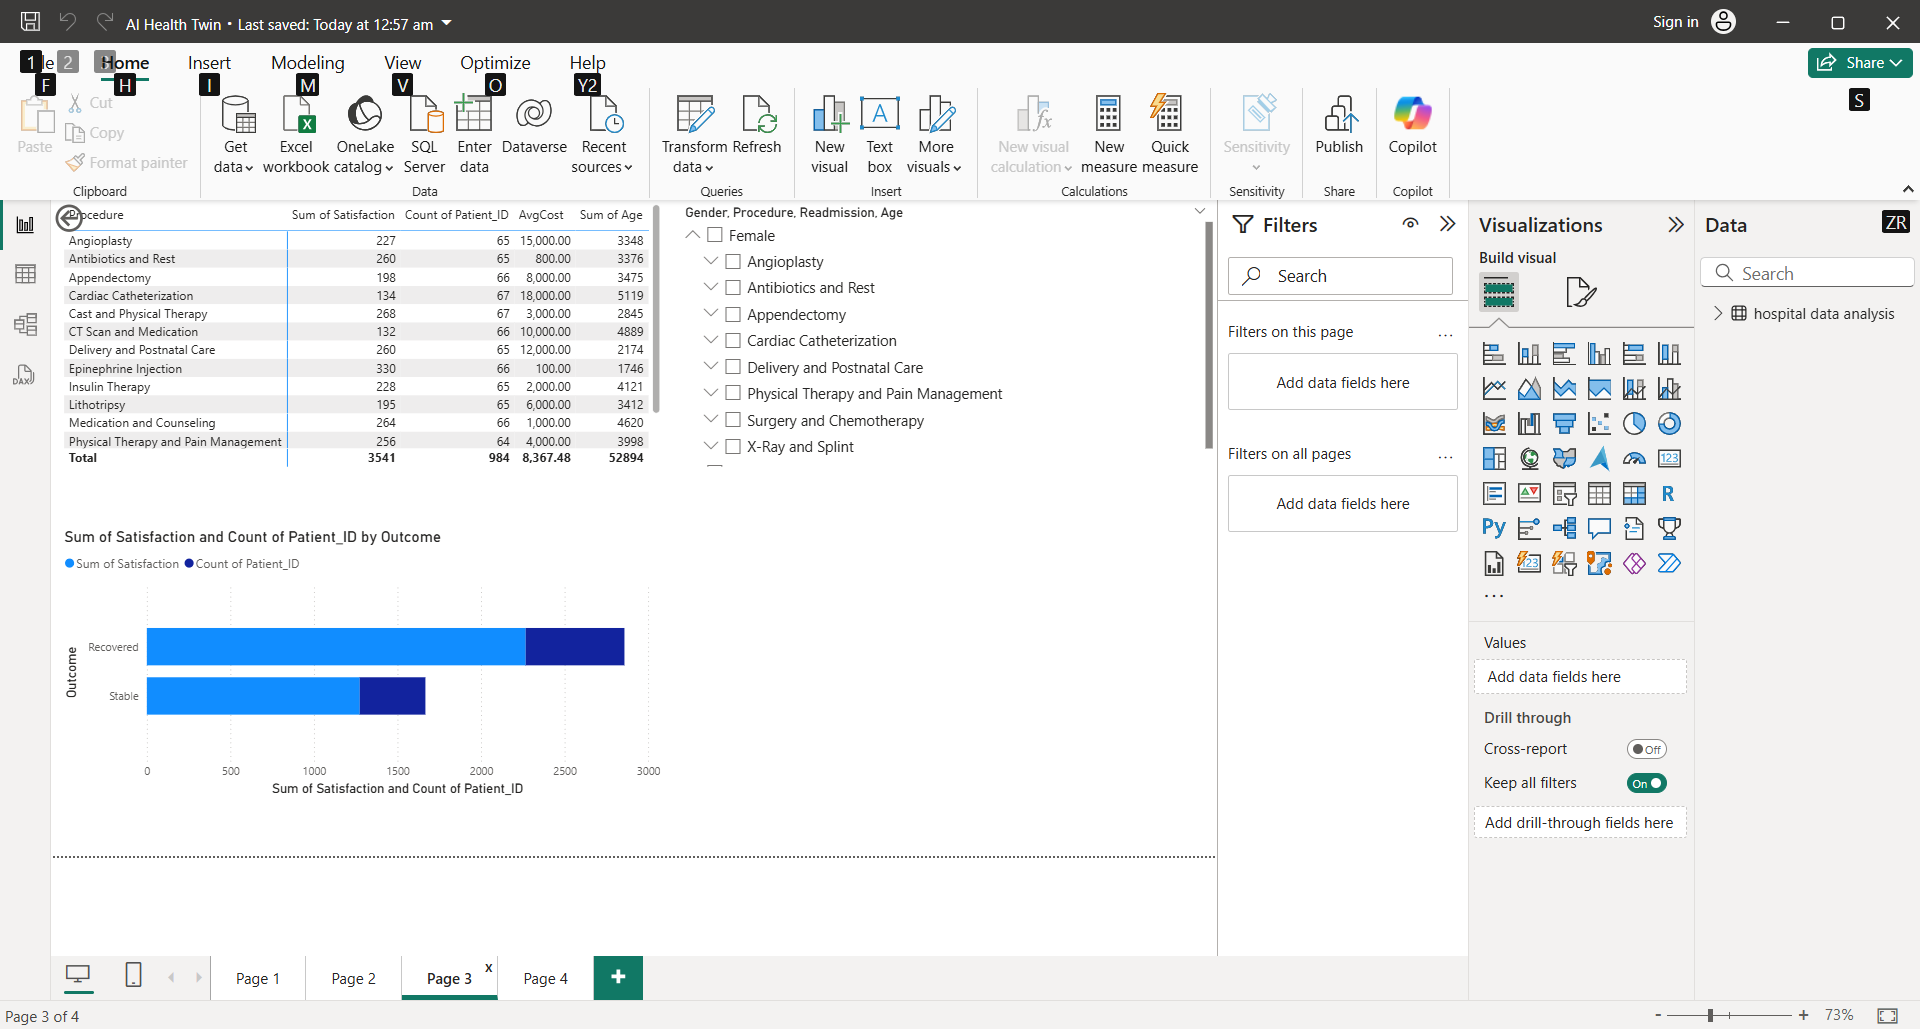

The page's visual inventory and layout, read from the dashboard file:
{"tool":"powerbi","page":{"name":"Page 3","canvas":[1280,720],"ordinal":2},"visuals":[{"type":"pivotTable","fields":{"Rows":["hospital data analysis.Procedure"],"Values":["hospital data analysis.Satisfaction","hospital data analysis.Patient_ID","hospital data analysis.AvgCost","hospital data analysis.Age"]},"box":[9.6,0,664.2,297.8],"z":0},{"type":"barChart","fields":{"Y":["hospital data analysis.Satisfaction","hospital data analysis.Patient_ID"],"Category":["hospital data analysis.Outcome"]},"box":[9.6,359.5,664.2,299.1],"z":1000},{"type":"slicer","fields":{"Values":["hospital data analysis.Gender","hospital data analysis.Procedure","hospital data analysis.Readmission","hospital data analysis.Age"]},"box":[683.4,0,596.9,297.8],"z":2000},{"type":"actionButton","box":[0,0,100,40],"z":3000}]}

Visuals, with their boxes on the page's 1280x720 design canvas (x1, y1, x2, y2). These are canvas units, not pixel positions in the 1920x1029 screenshot, which may show the page scaled, cropped or inside an application window:
pivotTable - hospital data analysis.Procedure x hospital data analysis.Satisfaction: BBox(10, 0, 674, 298)
barChart - hospital data analysis.Satisfaction x hospital data analysis.Patient_ID: BBox(10, 360, 674, 659)
slicer - hospital data analysis.Gender x hospital data analysis.Procedure: BBox(683, 0, 1280, 298)
actionButton: BBox(0, 0, 100, 40)
